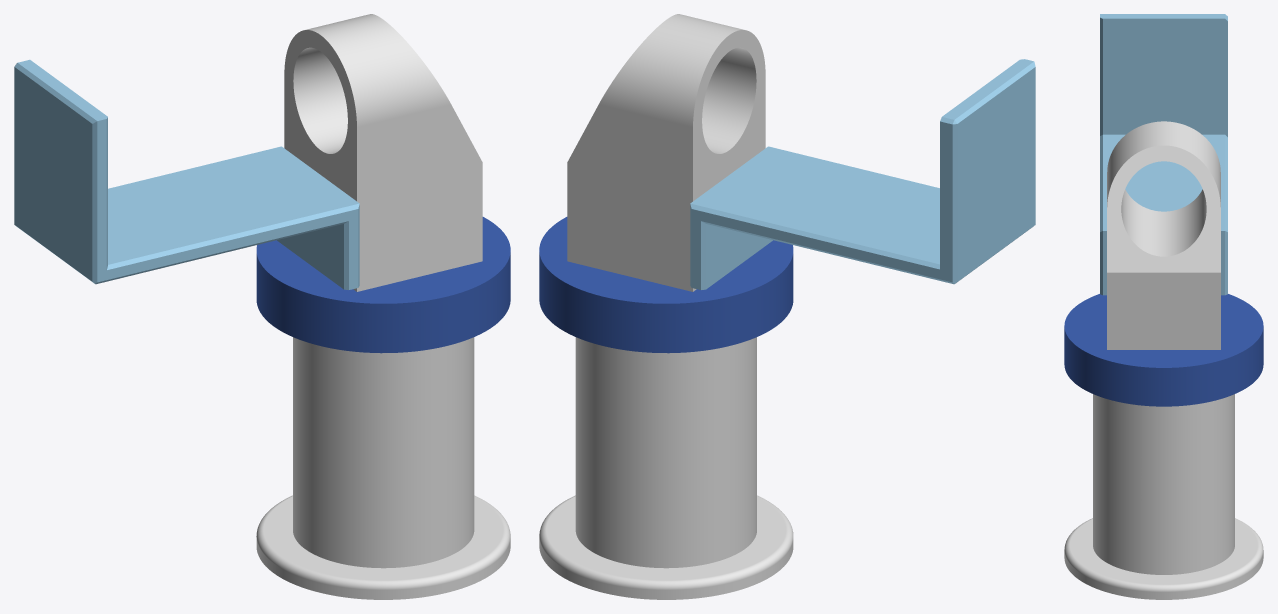
File: gimbal_axle.dae
The picture shows the model from 3 angles, left to right: view 1: azimuth 30°, elevation 25°; view 2: azimuth 150°, elevation 25°; view 3: azimuth 270°, elevation 25°; orthographic projection. The views are drawn at different scales.
Visible parts, largest first — view 1: ID2; view 2: ID2; view 3: ID2.
Part boxes in pixels (<box>): ID2: <box>14,14,510,599</box>; ID2: <box>539,14,1035,599</box>; ID2: <box>1064,14,1263,599</box>.
Bounding box in the file's own units: 0.14 × 0.07 × 0.1625.
